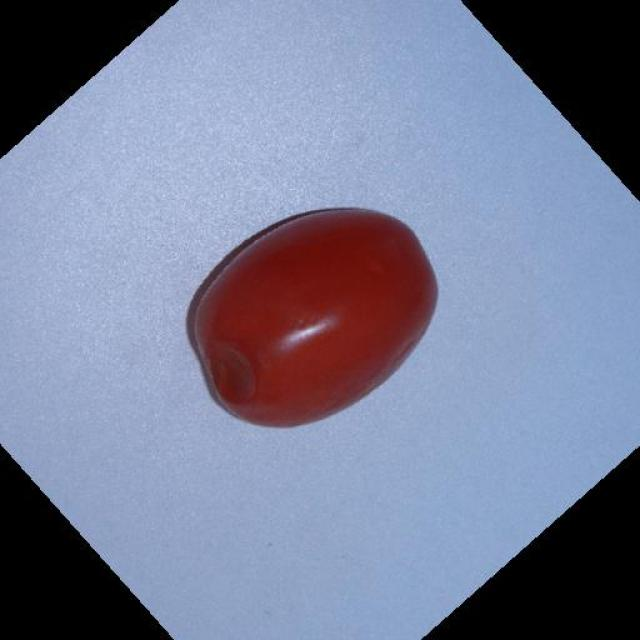Stale_tomato: (190, 314, 296, 418)
